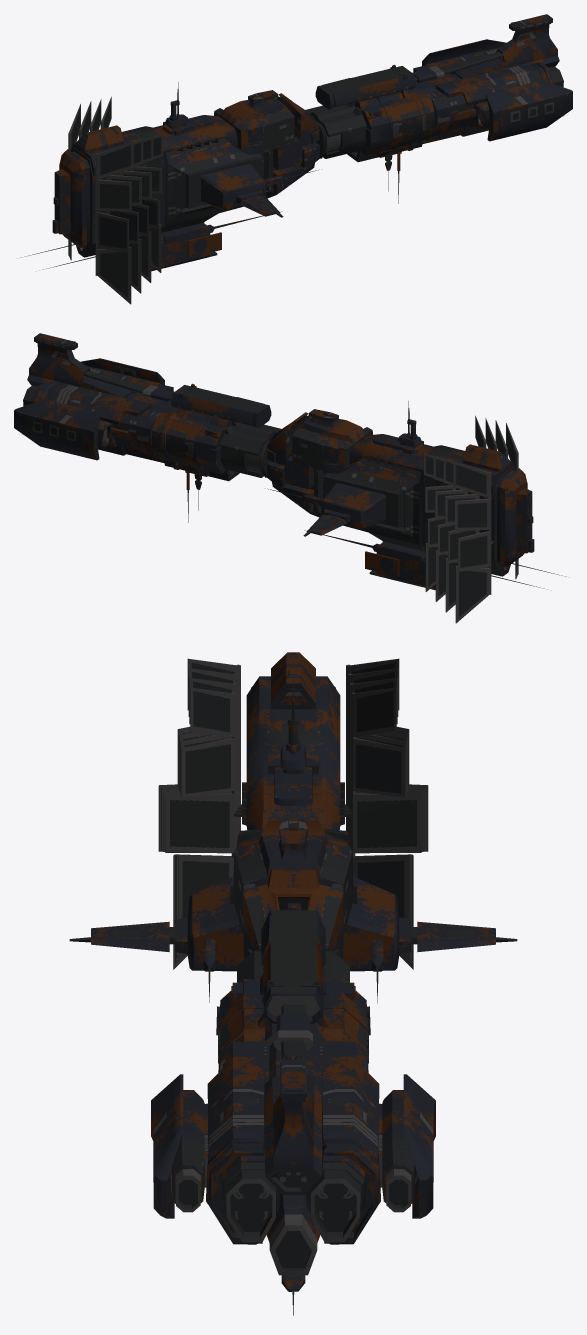
Rendered from cyclone.glb.
3 renders of one model, top to bottom at view 1: azimuth 30°, elevation 25°; view 2: azimuth 150°, elevation 25°; view 3: azimuth 270°, elevation 25°, orthographic. The views are drawn at different scales.
Visible parts, largest first — view 1: Cyclone; view 2: Cyclone; view 3: Cyclone.
Part boxes in pixels (x1,y1,x2,y2): Cyclone: (20,14,572,304); Cyclone: (14,333,566,623); Cyclone: (69,652,517,1315).
Bounding box in the file's own units: 514 × 164 × 182.
Materials: 1 (1 with a texture image).
